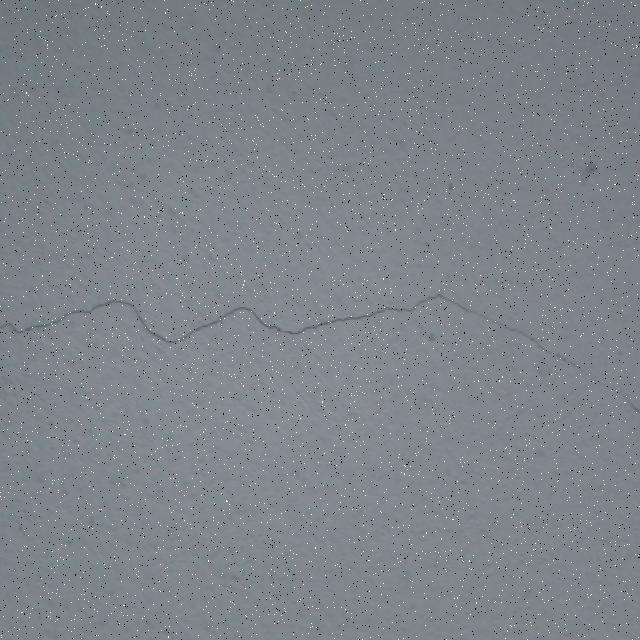minor crack: (2, 416, 636, 639), (433, 296, 541, 344), (100, 298, 188, 341), (266, 320, 318, 336)
moderate crack: (178, 305, 263, 336)
severe crack: (5, 291, 636, 428), (283, 298, 444, 334)
